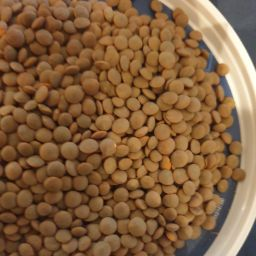Black Lentil(masoor daal): (2, 3, 241, 256), (36, 46, 156, 247)
